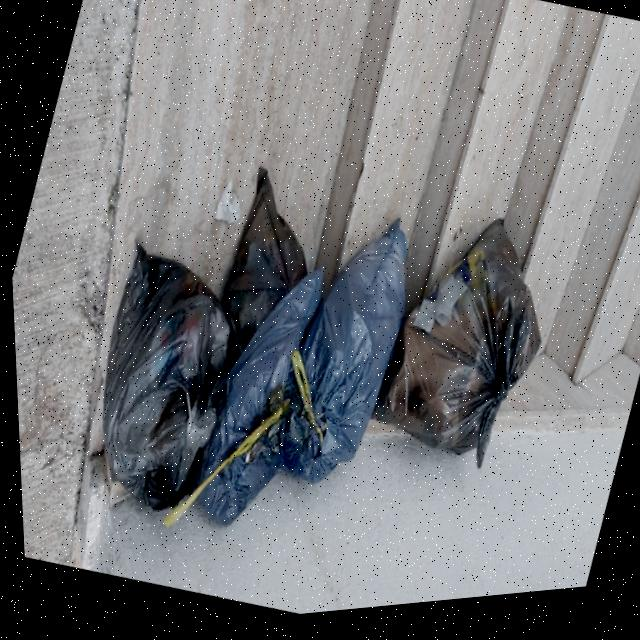Mixed Waste -Black Bag-: (359, 202, 574, 485), (56, 243, 251, 528), (200, 185, 323, 379)
Other: (176, 188, 430, 564)
